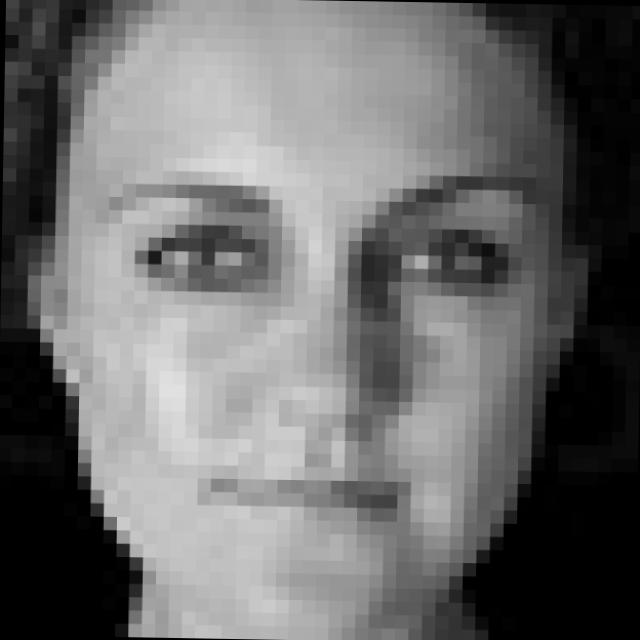neutral: (79, 145, 556, 538)
